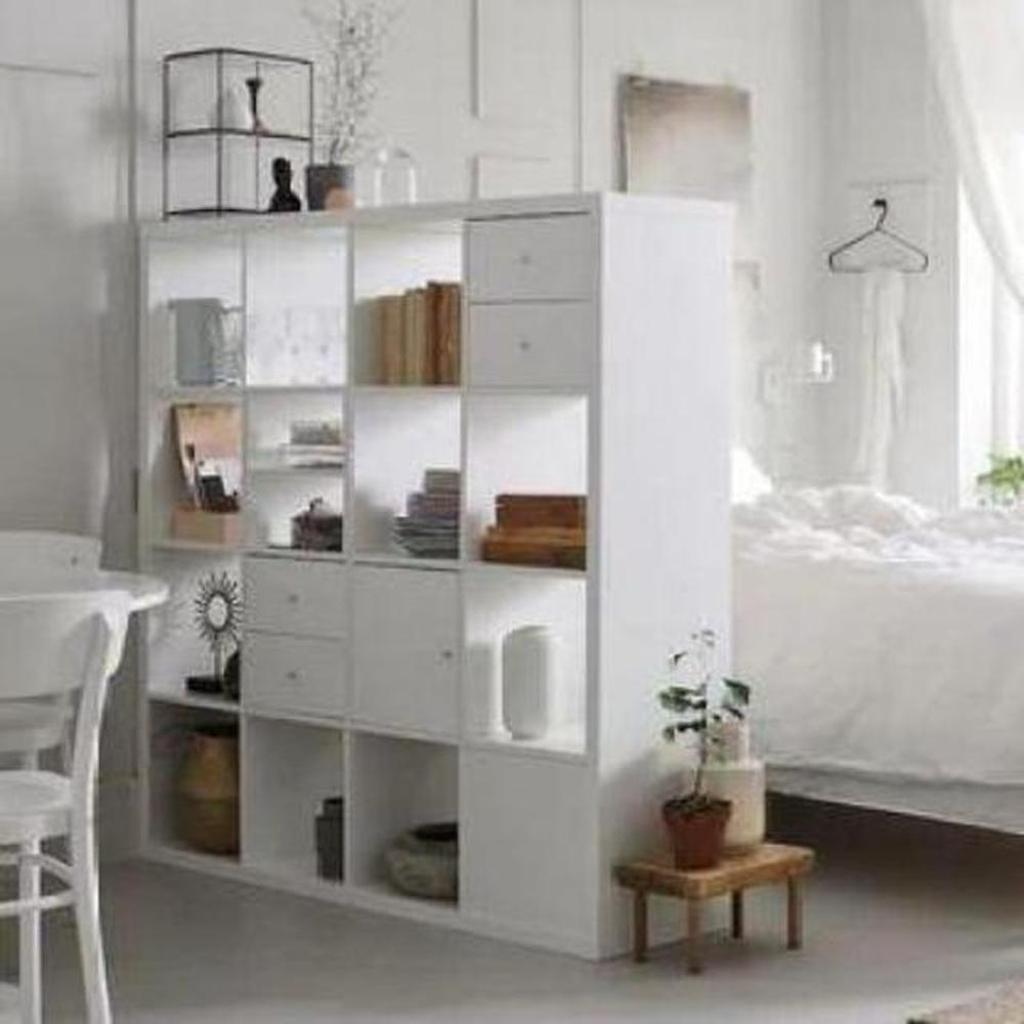lamp: (126, 187, 740, 967)
